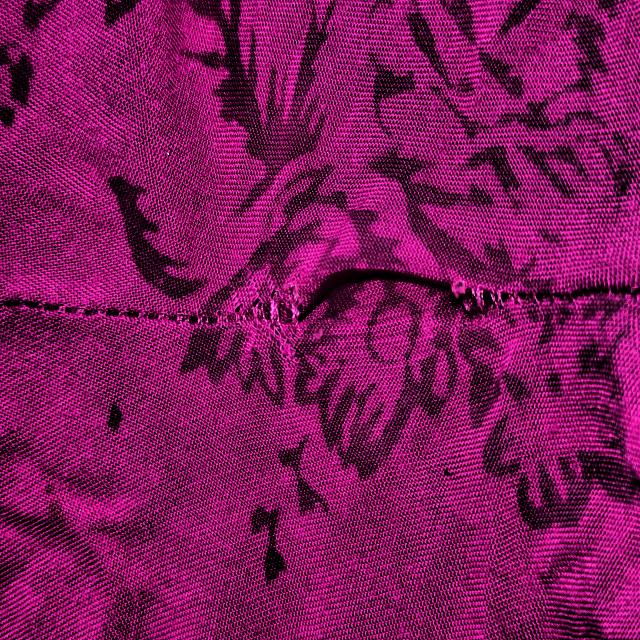seam: (203, 241, 562, 433)
